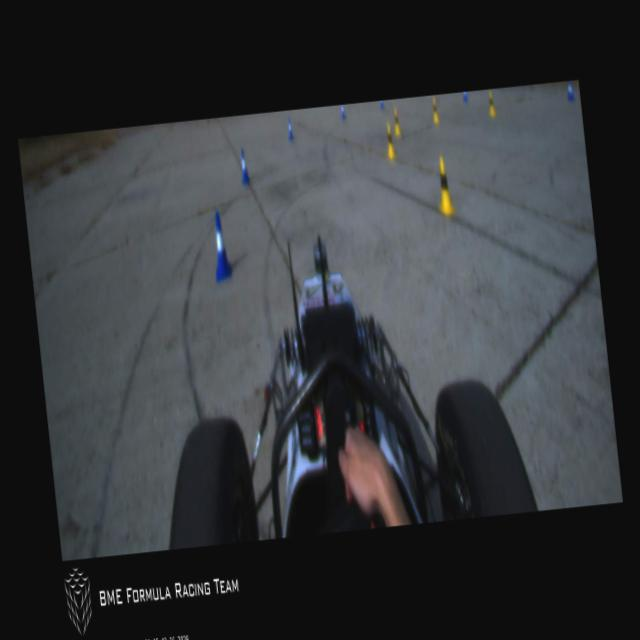blue_cone: (209, 211, 232, 278), (239, 150, 249, 182), (565, 80, 574, 100), (287, 119, 293, 138), (462, 91, 468, 101), (340, 104, 344, 118), (378, 100, 384, 108)
yellow_cone: (433, 155, 454, 214), (384, 123, 395, 158), (392, 107, 400, 135), (429, 98, 438, 122), (487, 92, 496, 116)
